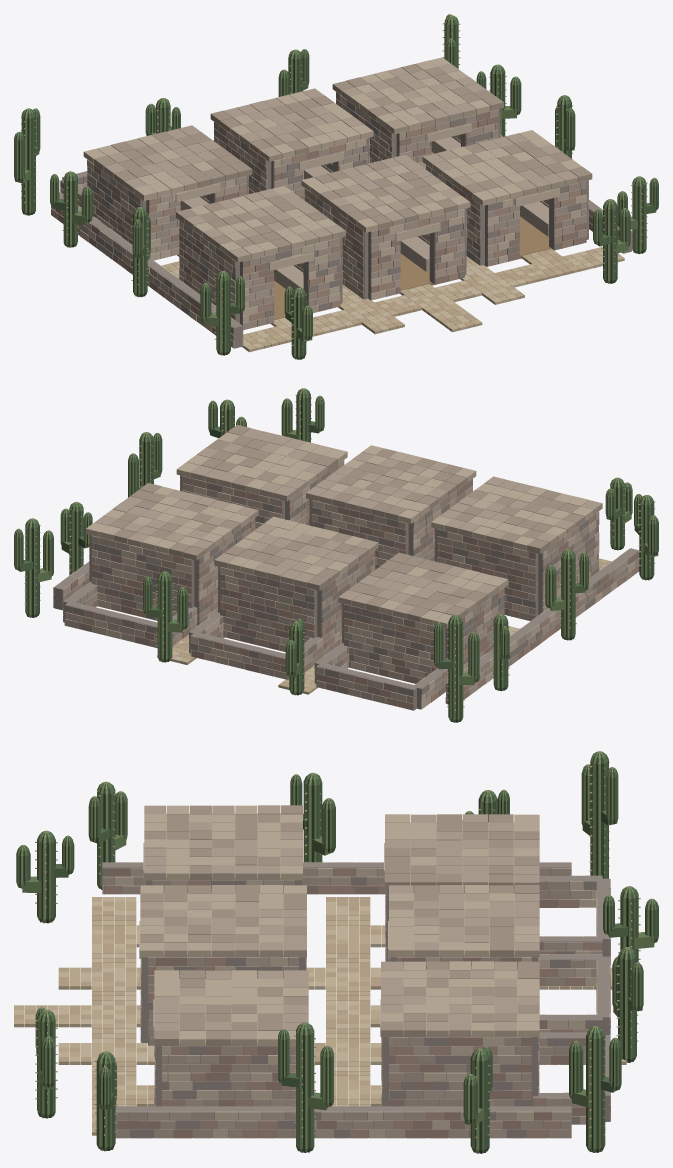
Rendered from aldea-omaguaca.glb.
3 views of the same model, one above another, from view 1: azimuth 30°, elevation 25°; view 2: azimuth 150°, elevation 25°; view 3: azimuth 270°, elevation 25° (orthographic). The views are drawn at different scales.
Visible parts, largest first — view 1: aldea-omaguaca; view 2: aldea-omaguaca; view 3: aldea-omaguaca.
Part boxes in pixels (<box>): aldea-omaguaca: <box>14,14,658,359</box>; aldea-omaguaca: <box>14,388,658,722</box>; aldea-omaguaca: <box>14,751,658,1153</box>.
Size of the model in its own units: 17.14 by 3.7 by 16.21.
